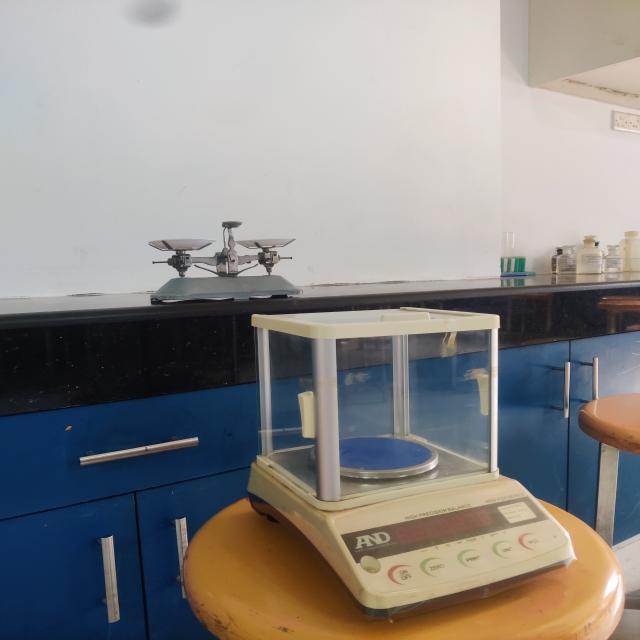Mechanical_Balance_Scale: (139, 202, 318, 316)
Precision_Weight_Scale: (220, 293, 603, 640)
